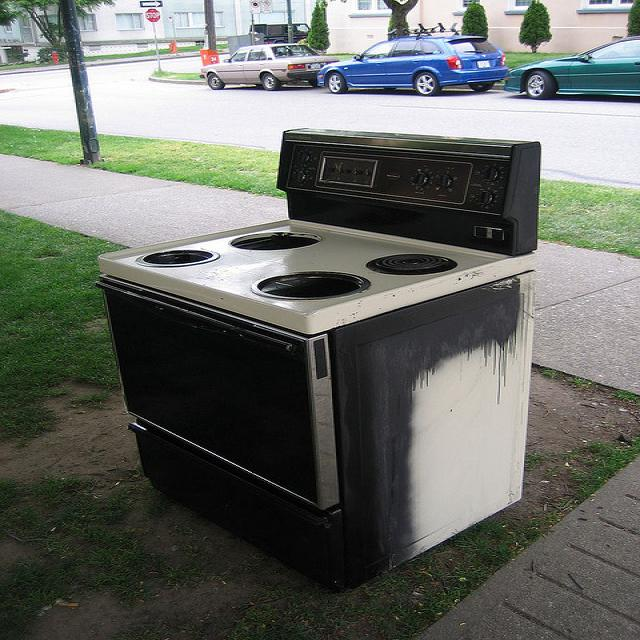Vehicle: (316, 23, 508, 96), (504, 37, 640, 99), (198, 43, 340, 90)
